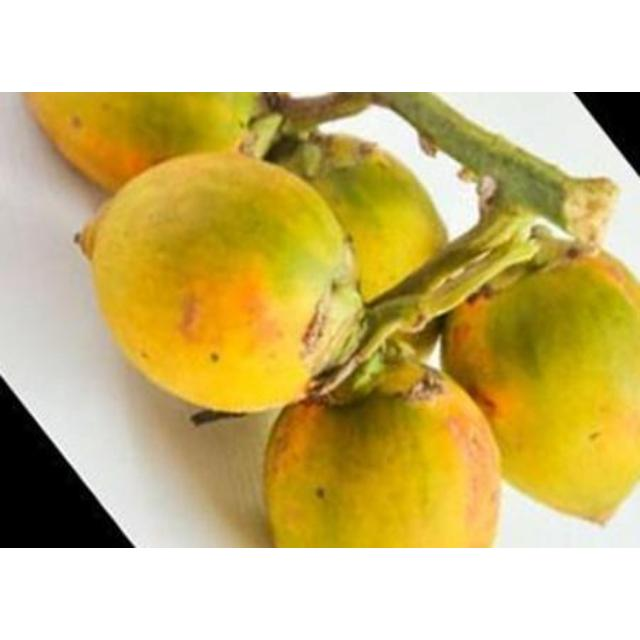good: (86, 154, 352, 412), (443, 246, 639, 524), (264, 368, 501, 548), (278, 132, 444, 308), (22, 94, 264, 192)
